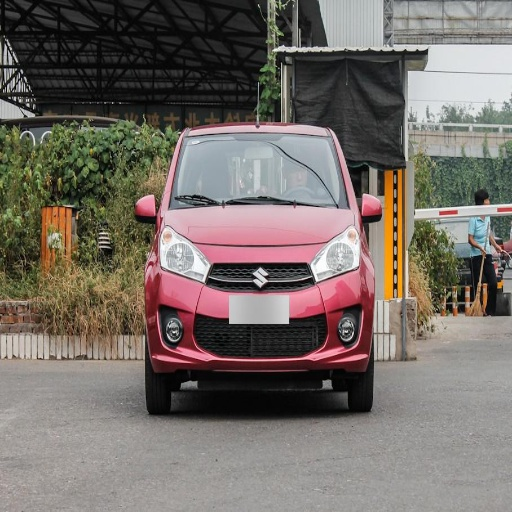front_bumper: (149, 242, 372, 375)
front_right_light: (152, 232, 205, 278)
hood: (164, 208, 354, 243)
